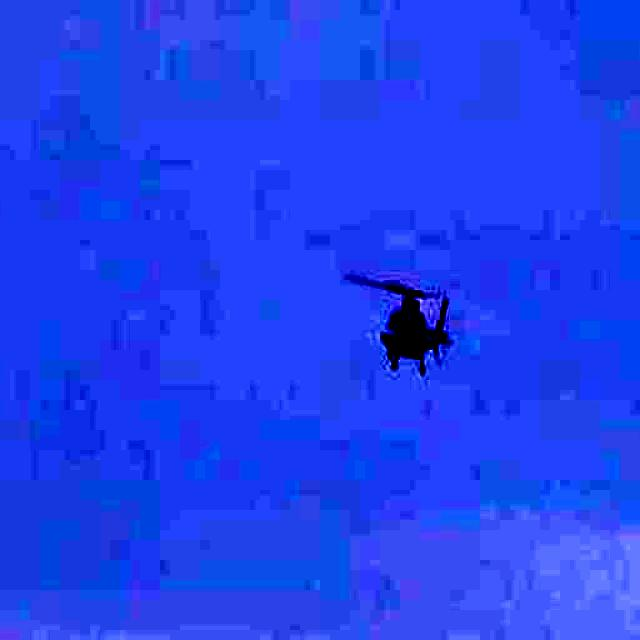drone: (309, 248, 495, 395)
